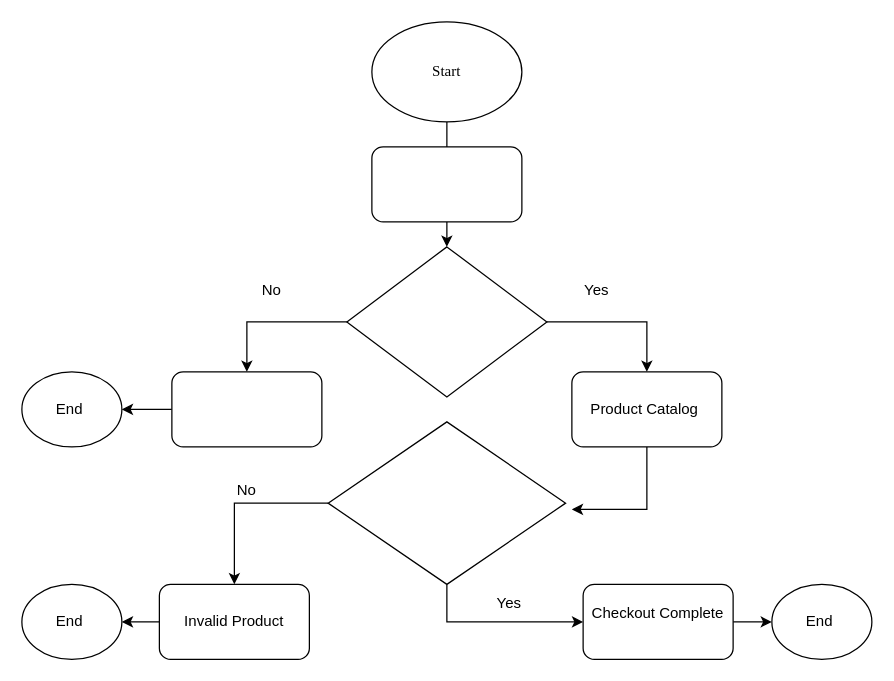
Some shapes in this 894 by 681 pixel diagram are drawn without their labels. Here are the shapes that lost their labels. From the top down, the centre of each, then its label:
At (446,184): "Authentication".
At (446,321): "Credentials Valid?".
At (246,409): "Authentication Failed".
At (446,502): "Product Valid?".
